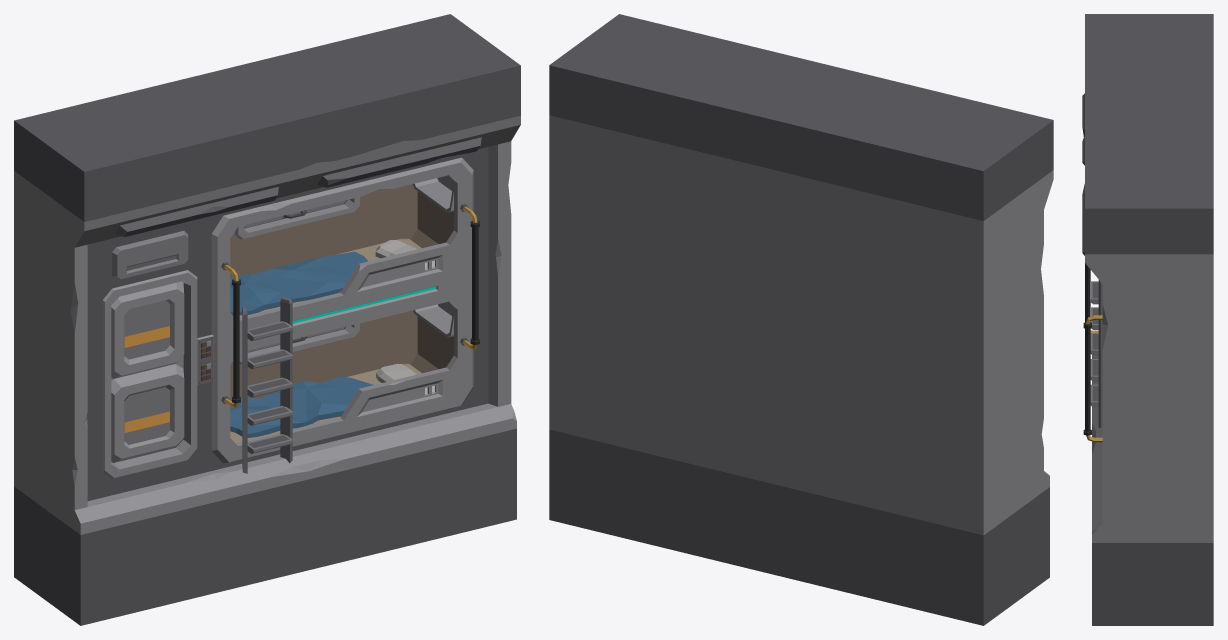
File: SM_Bld_Crew_Beds_01.glb
The picture shows the model from 3 angles, left to right: view 1: azimuth 30°, elevation 25°; view 2: azimuth 150°, elevation 25°; view 3: azimuth 270°, elevation 25°; orthographic projection. The views are drawn at different scales.
Visible parts, largest first — view 1: SM_Bld_Crew_Beds_01; view 2: SM_Bld_Crew_Beds_01; view 3: SM_Bld_Crew_Beds_01.
Boxes of the visible parts, bbox=[...] form: SM_Bld_Crew_Beds_01: bbox=[14, 14, 520, 625]; SM_Bld_Crew_Beds_01: bbox=[549, 14, 1053, 625]; SM_Bld_Crew_Beds_01: bbox=[1082, 14, 1213, 625].
Size of the model in its own units: 5 by 5 by 1.42.
2 materials, 2 textured.
